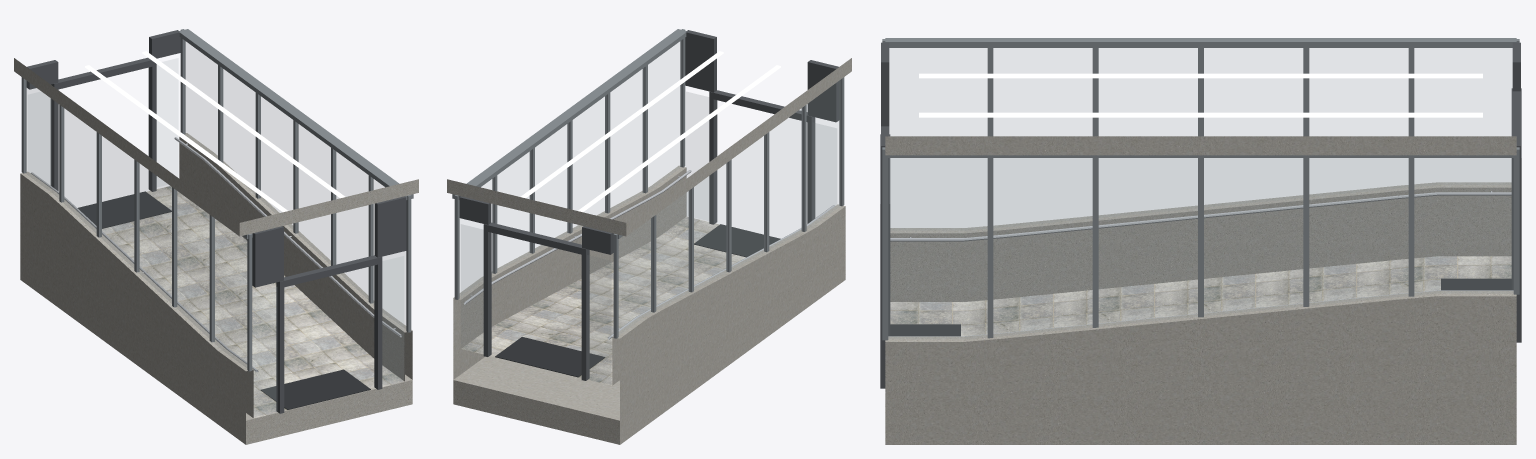
Rendered from skybridge.glb.
The picture shows the model from 3 angles, left to right: view 1: azimuth 30°, elevation 25°; view 2: azimuth 150°, elevation 25°; view 3: azimuth 270°, elevation 25°; orthographic projection. The views are drawn at different scales.
Parts seen in each view (by area): view 1: WALL_west_glass, sb_floor, WALL_east_glass, sb_structure, WALL_west_parapet, sb_doorframe, WALL_east_parapet, sb_doorglass, WALL_east_mullion, sb_roof, WALL_west_mullion, sb_mat (+2 smaller); view 2: WALL_west_glass, sb_structure, WALL_east_glass, WALL_west_parapet, sb_floor, sb_doorframe, sb_doorglass, WALL_east_parapet, WALL_east_mullion, sb_roof, WALL_west_mullion, sb_mat (+2 smaller); view 3: WALL_east_glass, WALL_west_glass, WALL_east_parapet, WALL_west_parapet, sb_structure, sb_floor, sb_roof, WALL_east_mullion, WALL_west_mullion, sb_led, sb_doorframe, sb_rail (+1 smaller).
Part boxes in pixels (x1,y1,x2,y2): WALL_west_glass: (26,81,246,367); sb_floor: (102,186,404,418); WALL_east_glass: (185,41,405,328); sb_structure: (20,223,412,444); WALL_west_parapet: (20,171,253,419); sb_doorframe: (26,30,406,413); WALL_east_parapet: (179,133,412,381); sb_doorglass: (28,58,403,415); WALL_east_mullion: (179,29,413,332); sb_roof: (14,58,418,236); WALL_west_mullion: (21,77,252,371); sb_mat: (77,191,370,409); WALL_west_glass: (619,81,839,334); sb_structure: (453,255,845,444); WALL_east_glass: (460,41,680,295); WALL_west_parapet: (612,204,845,387); sb_floor: (461,216,745,385); sb_doorframe: (459,30,839,380); sb_doorglass: (461,92,836,384); WALL_east_parapet: (453,165,686,348); WALL_east_mullion: (452,29,686,299); sb_roof: (447,58,851,236); WALL_west_mullion: (613,77,844,338); sb_mat: (495,224,780,377); WALL_east_glass: (889,158,1512,338); WALL_west_glass: (890,48,1511,229); WALL_east_parapet: (885,291,1516,410); WALL_west_parapet: (890,182,1511,301); sb_structure: (885,365,1516,444); sb_floor: (890,256,1511,336); sb_roof: (885,136,1516,155); WALL_east_mullion: (882,147,1519,340); WALL_west_mullion: (882,38,1519,136); sb_led: (919,73,1482,117); sb_doorframe: (880,42,1521,388); sb_rail: (888,191,1513,336).
Size of the model in its own units: 3.44 by 4.1 by 7.62.
Materials: 10 (3 with a texture image).
